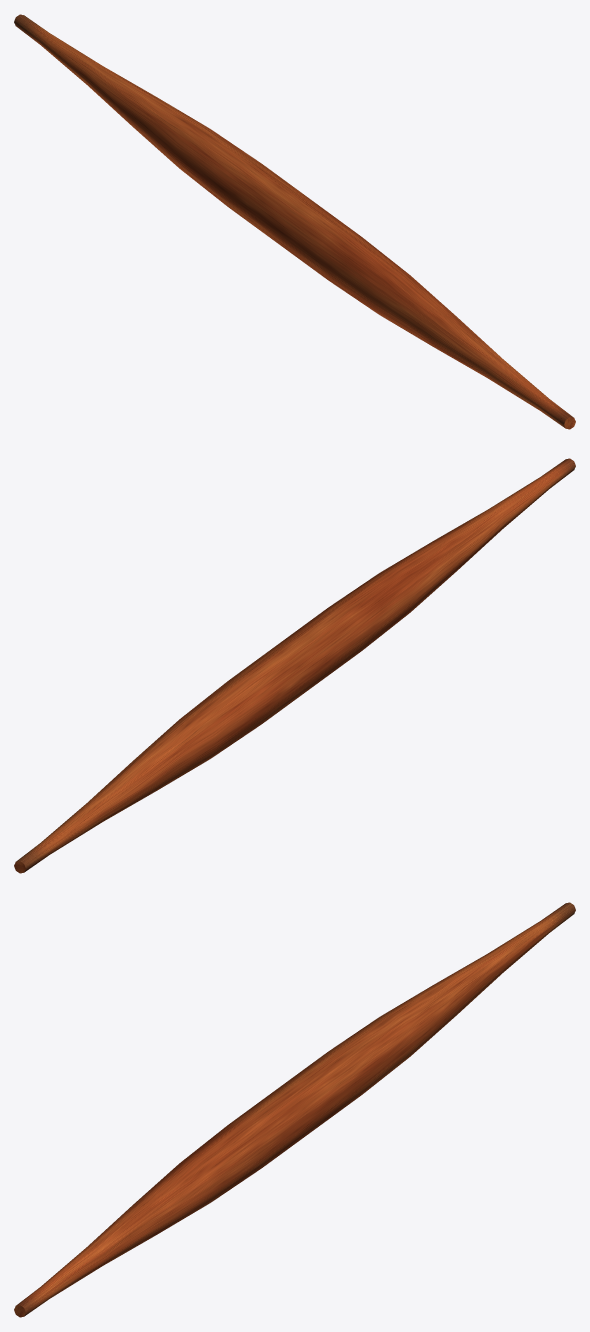
File: rolling_pin.glb
The picture shows the model from 3 angles, top to bottom: view 1: azimuth 30°, elevation 25°; view 2: azimuth 150°, elevation 25°; view 3: azimuth 330°, elevation 25°; orthographic projection.
Parts seen in each view (by area): view 1: Object_40; view 2: Object_40; view 3: Object_40.
Part boxes in pixels (x1,y1,x2,y2): Object_40: (14, 14, 575, 429); Object_40: (14, 458, 575, 873); Object_40: (14, 902, 575, 1317).
Size of the model in its own units: 0.025 by 0.025 by 0.4997.
1 material, 1 textured.
